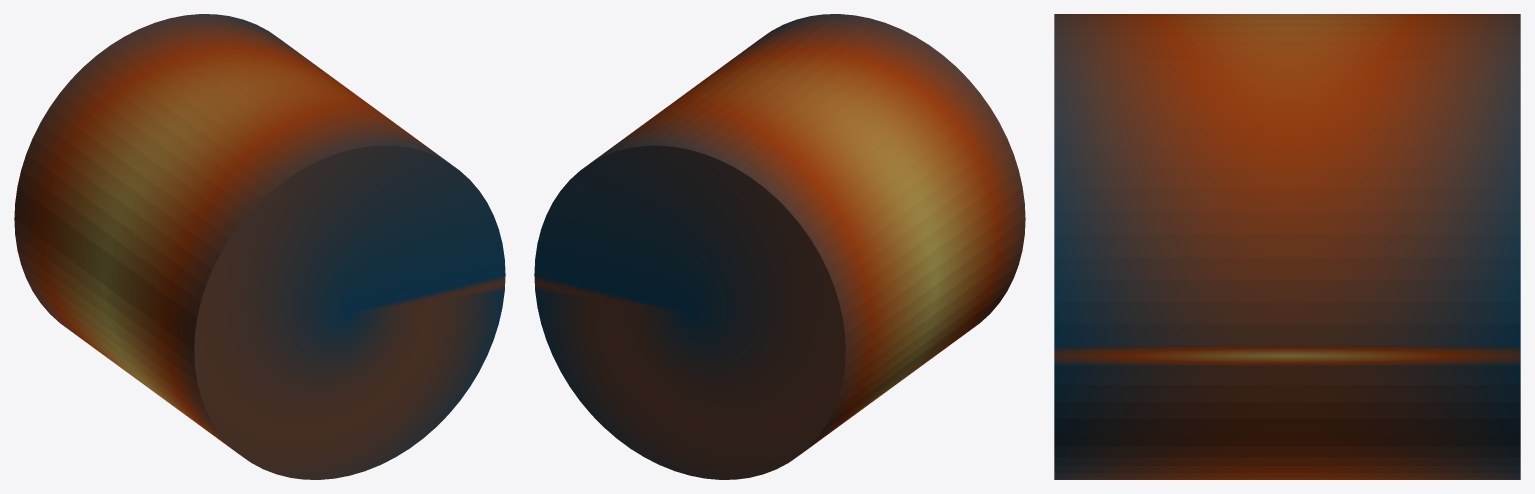
The model's file is cylinder-sunset-c1.glb.
The picture shows the model from 3 angles, left to right: view 1: azimuth 30°, elevation 25°; view 2: azimuth 150°, elevation 25°; view 3: azimuth 270°, elevation 25°; orthographic projection. The views are drawn at different scales.
Parts seen in each view (by area): view 1: world; view 2: world; view 3: world.
Boxes of the visible parts, x1,y1,x2,y2 form: world: [14, 14, 505, 479]; world: [534, 14, 1025, 479]; world: [1054, 14, 1520, 479].
Bounding box in the file's own units: 1 × 1 × 1.
Materials: 1 (1 with a texture image).
